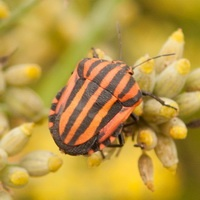insect: (49, 58, 141, 154)
